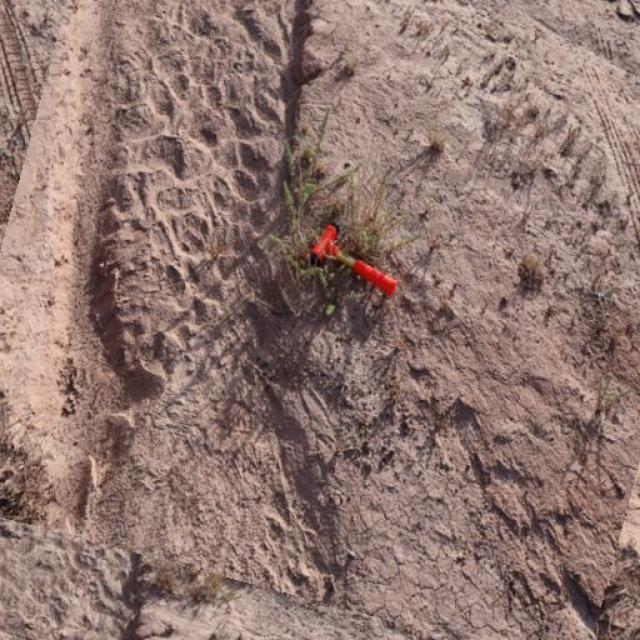mallet: (308, 222, 398, 298)
